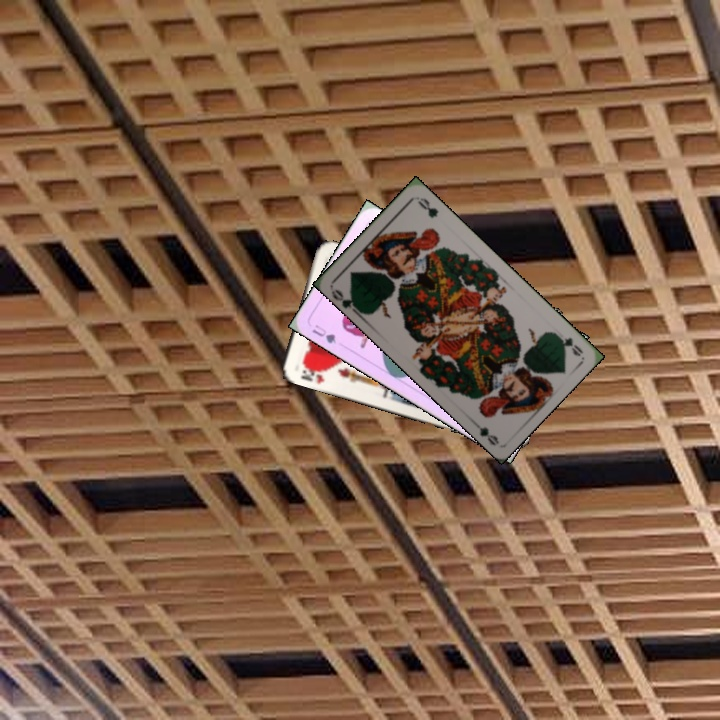GO: (328, 285, 363, 318), (549, 328, 585, 359)
GU: (308, 320, 339, 346)
HK: (296, 360, 330, 386)
